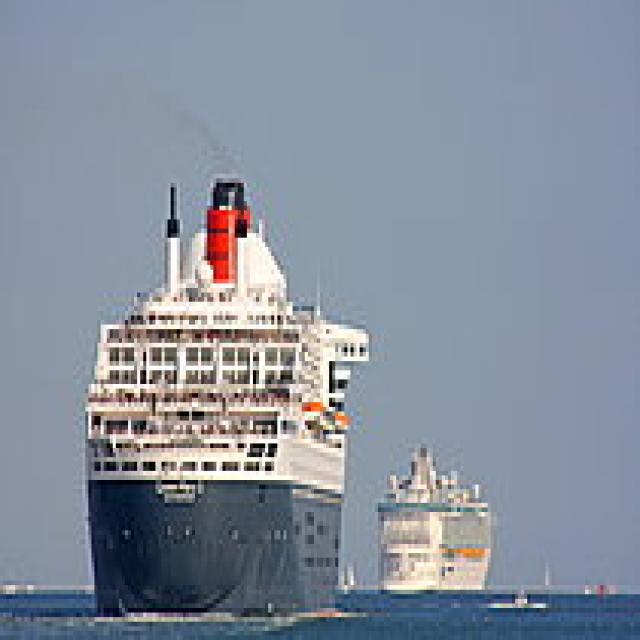Cruise: (79, 169, 369, 617), (372, 434, 491, 594)
